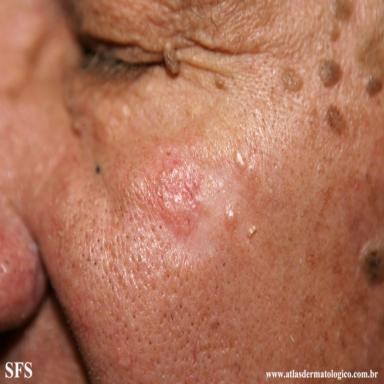basal-cell-carcinoma: (157, 159, 201, 237)
